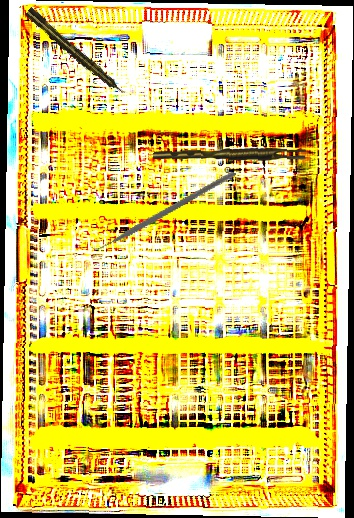Chopper: (84, 126, 237, 292)
Handpiece: (24, 6, 128, 99)
Tissue Forceps: (153, 143, 306, 165)
